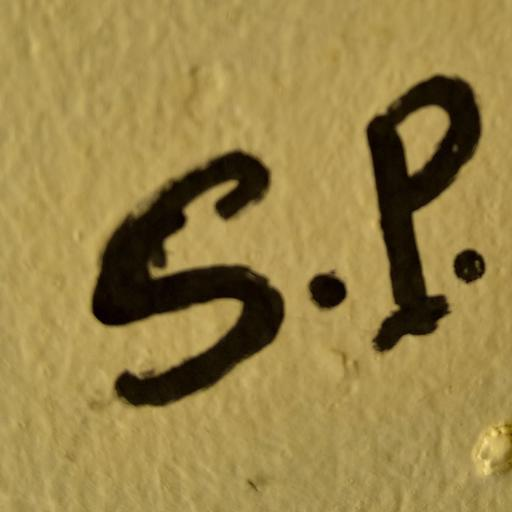stain: (88, 62, 512, 413)
